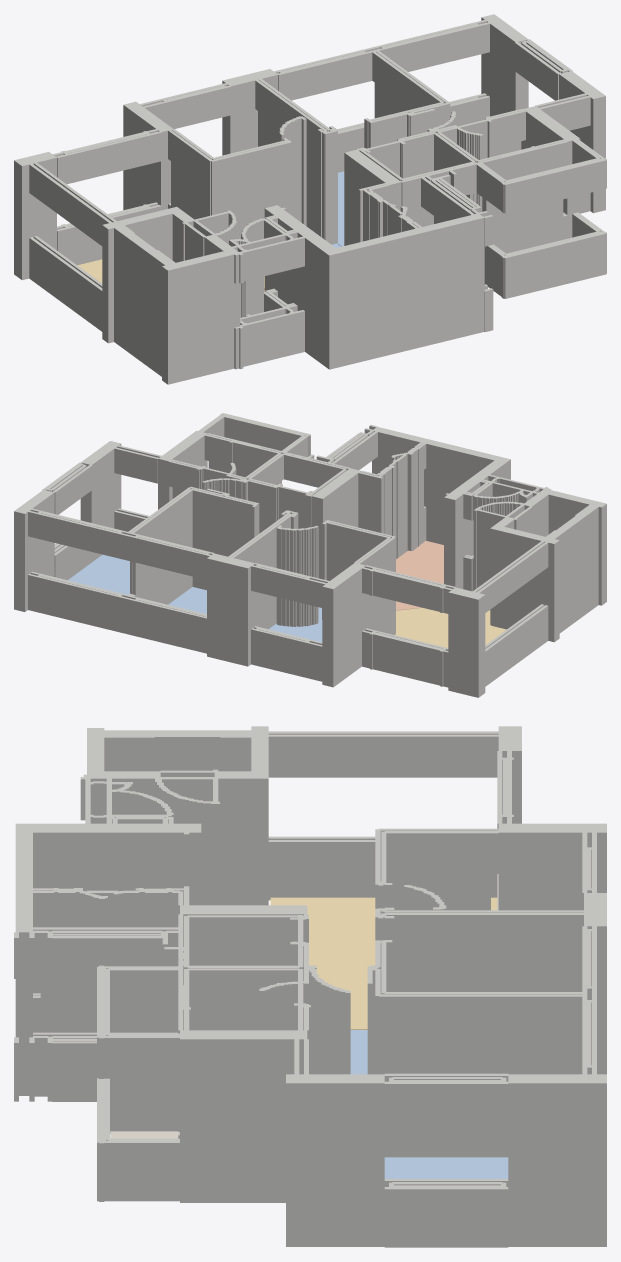
The picture shows the model from 3 angles, top to bottom: view 1: azimuth 30°, elevation 25°; view 2: azimuth 150°, elevation 25°; view 3: azimuth 270°, elevation 25°; orthographic projection. The views are drawn at different scales.
Visible parts, largest first — view 1: walls, room:bedroom:6; view 2: walls, room:living:9, room:kitchen:2, room:bedroom:0, room:bedroom:6, room:bedroom:7; view 3: walls, room:living:9, room:bedroom:0, room:bedroom:7.
Part boxes in pixels (box(x1,y1,x2,y2)): walls: box(14, 14, 606, 384); room:bedroom:6: box(337, 171, 344, 246); walls: box(14, 413, 606, 697); room:living:9: box(395, 607, 506, 647); room:kitchen:2: box(396, 541, 443, 610); room:bedroom:0: box(68, 554, 129, 594); room:bedroom:6: box(168, 587, 206, 614); room:bedroom:7: box(269, 607, 322, 642); walls: box(14, 726, 606, 1247); room:living:9: box(270, 897, 497, 1029); room:bedroom:0: box(384, 1157, 508, 1178); room:bedroom:7: box(350, 1030, 367, 1074).
Bounding box in the file's own units: 13.12 × 2.8 × 9.2.
